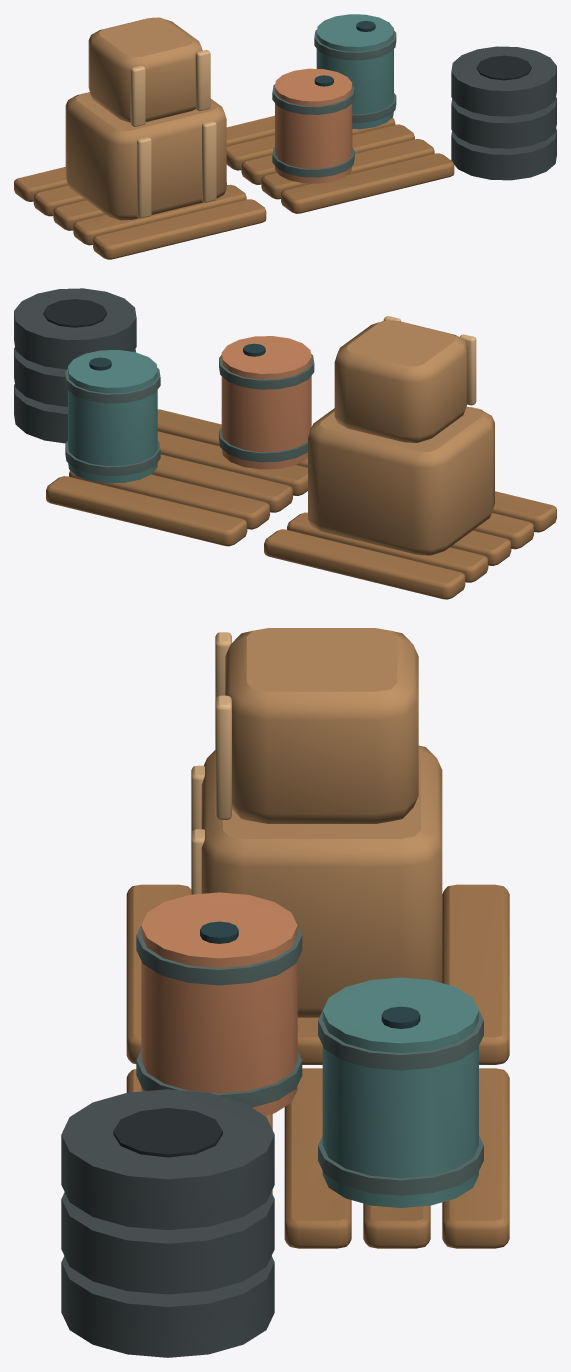
Rendered from service_yard.glb.
3 renders of one model, top to bottom at view 1: azimuth 30°, elevation 25°; view 2: azimuth 150°, elevation 25°; view 3: azimuth 270°, elevation 25°, orthographic. The views are drawn at different scales.
Parts seen in each view (by area): view 1: Service_yard; view 2: Service_yard; view 3: Service_yard.
Boxes of the visible parts, x1,y1,x2,y2 form: Service_yard: (14, 14, 556, 259); Service_yard: (14, 288, 556, 599); Service_yard: (61, 628, 509, 1357).
Bounding box in the file's own units: 2.65 × 0.953 × 1.14.
